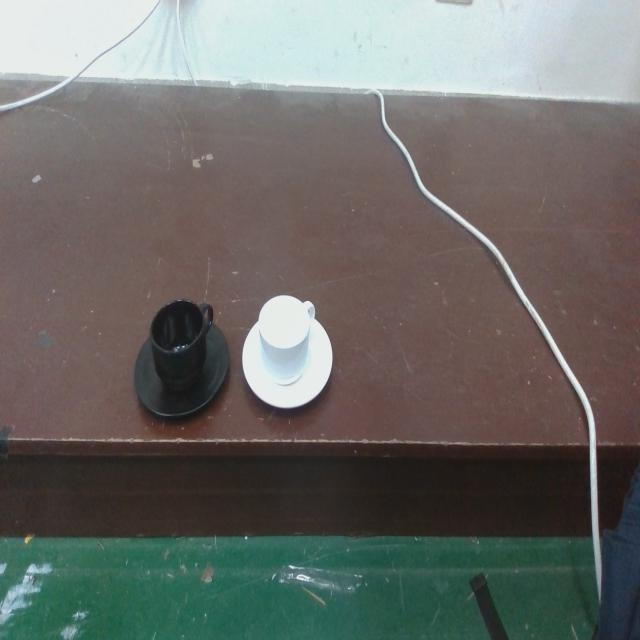black: (132, 294, 231, 424)
white: (240, 292, 334, 414)
